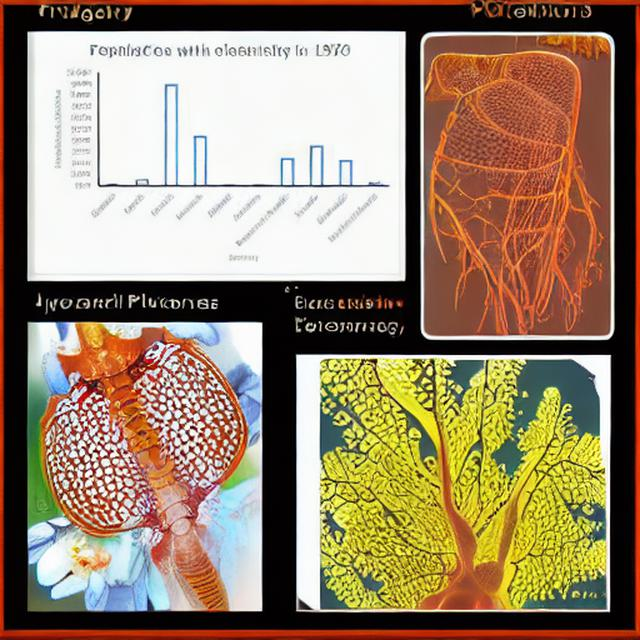Graph: (41, 32, 401, 275)
